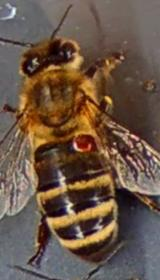varroa_mite: (64, 120, 100, 154)
